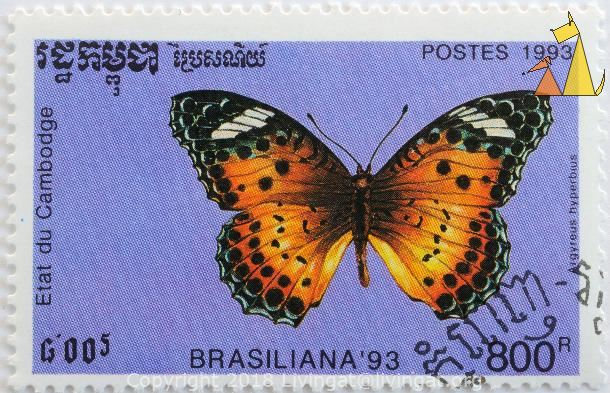Argyreus hyperbius: (165, 82, 552, 326)
butterfly: (167, 84, 554, 328)
